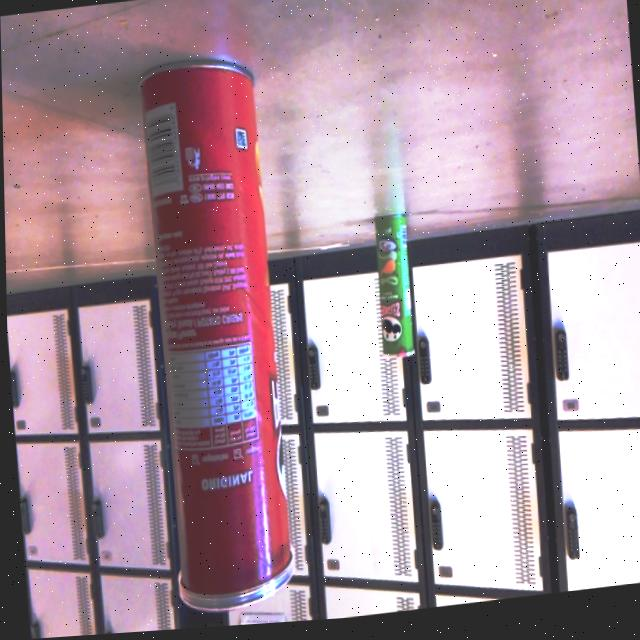greenpringles: (360, 205, 427, 367)
redpringles: (126, 42, 324, 633)
